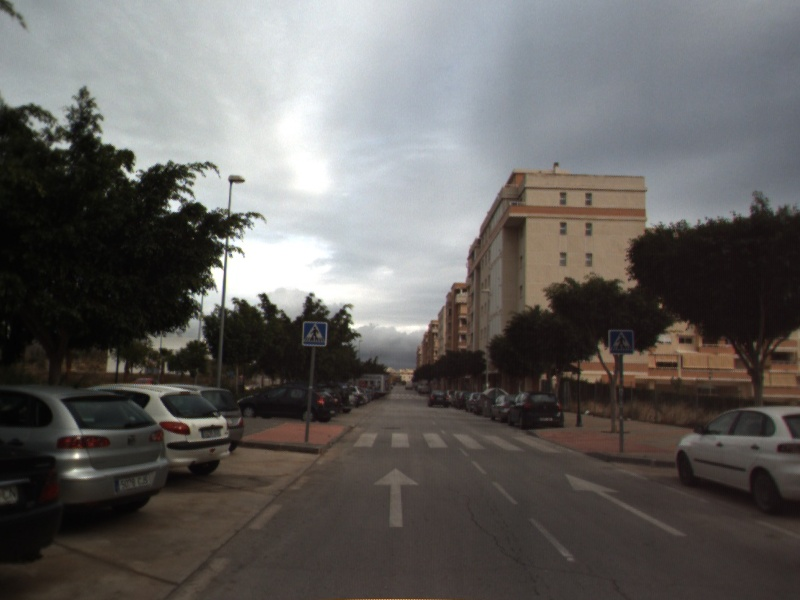STRAIGHT: (563, 472, 689, 538), (371, 466, 421, 528)
